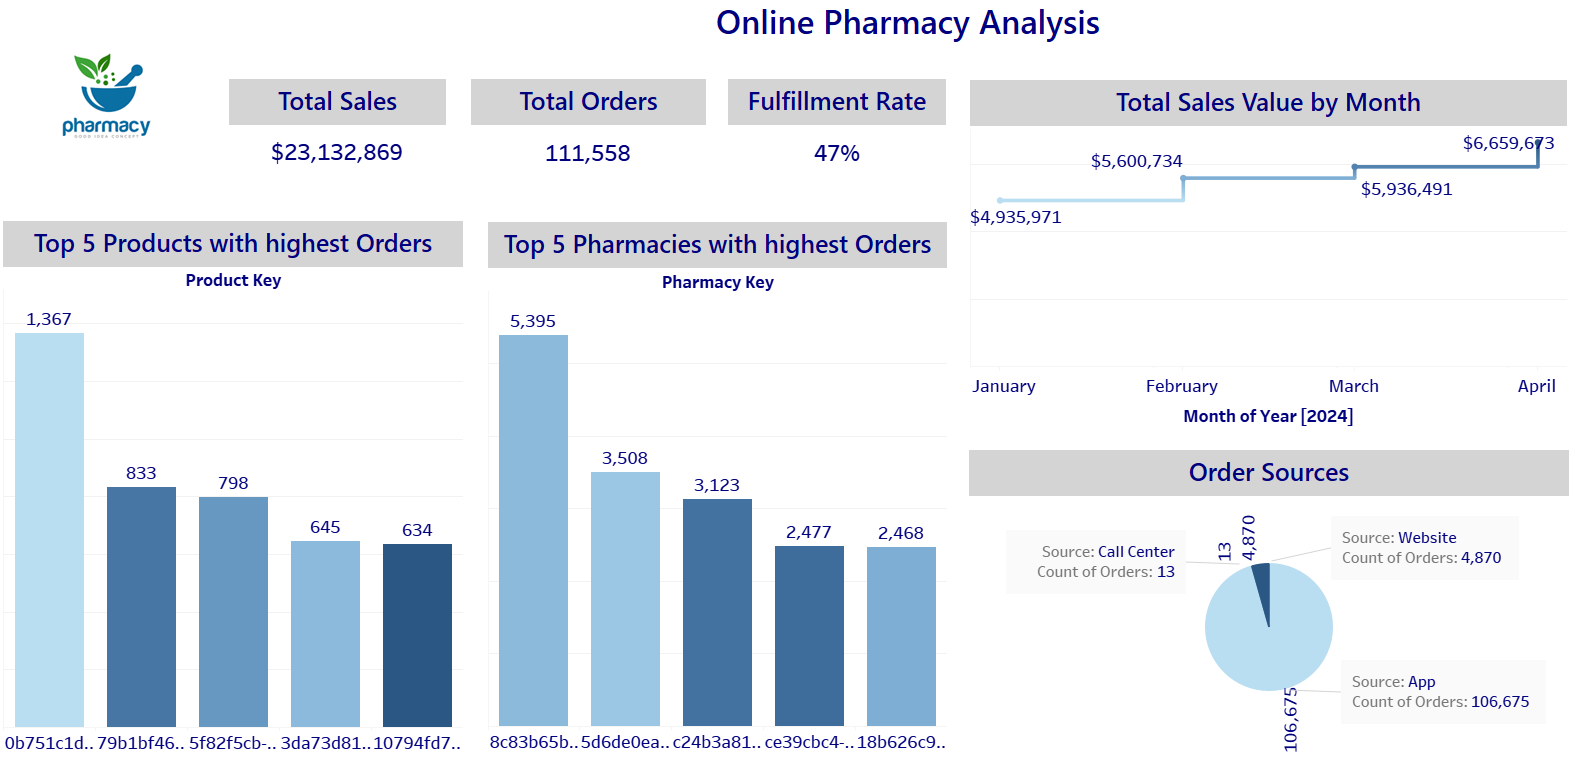

This screenshot's page, from the dashboard's own definition file:
{"tool":"tableau","page":{"name":"Overview","canvas":[1600,801],"ordinal":0},"visuals":[{"type":"text","box":[261,10,1318,67]},{"type":"image","param":"D:/Data Analyst Case Study (Vezeeta)/vezeeta.png","box":[19,28,221,171]},{"type":"worksheet","title":"SalesValue","mark":"Automatic","box":[261,102,197,96]},{"type":"worksheet","title":"TotalOrder","mark":"Automatic","box":[483,102,235,97]},{"type":"worksheet","title":"FulfillmentRate","mark":"Automatic","box":[740,102,218,98]},{"type":"worksheet","title":"MonthSales","mark":"Line","rows":["Calculation_893120142888820736"],"cols":["CreatedOn"],"box":[982,103,597,354]},{"type":"worksheet","title":"TopProducts","mark":"Automatic","rows":["OrderItems_3D11C9F80AB849B683354290E35FB460"],"cols":["ProductKey"],"box":[15,244,460,534]},{"type":"worksheet","title":"TopPharmacies","mark":"Automatic","rows":["Orders_EE6952D8D3DA4993B4189B65892EE140"],"cols":["PharmacyKey"],"box":[500,245,459,532]},{"type":"worksheet","title":"OrderSource","mark":"Pie","box":[981,473,600,305]}]}

Visuals, with their boxes in screenshot pixels (x1, y1, x2, y2), scaled from the page's 1600x801 canvas onto the 1574x781 screenshot:
text: <region>257, 10, 1553, 75</region>
image: <region>19, 27, 236, 194</region>
"SalesValue" worksheet: <region>257, 99, 451, 193</region>
"TotalOrder" worksheet: <region>475, 99, 706, 194</region>
"FulfillmentRate" worksheet: <region>728, 99, 942, 195</region>
"MonthSales" worksheet (Line marks): <region>966, 100, 1553, 446</region>
"TopProducts" worksheet: <region>15, 238, 467, 759</region>
"TopPharmacies" worksheet: <region>492, 239, 943, 758</region>
"OrderSource" worksheet (Pie marks): <region>965, 461, 1555, 759</region>
